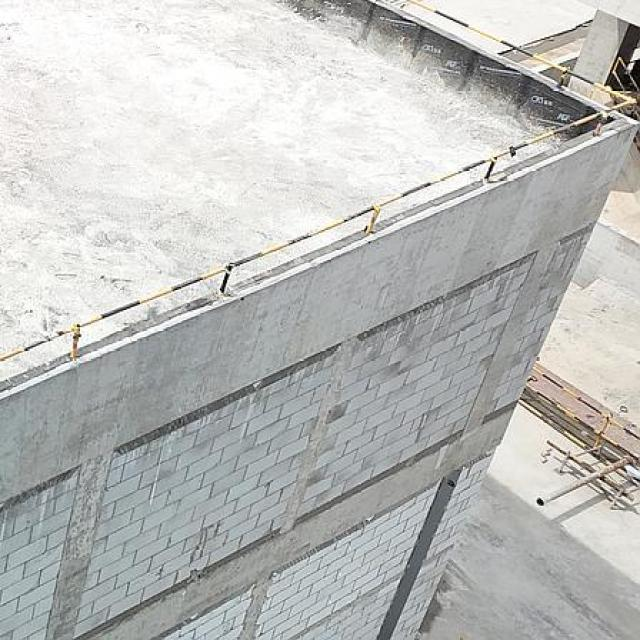edge_guardrail: (1, 0, 638, 369), (525, 365, 640, 460)
